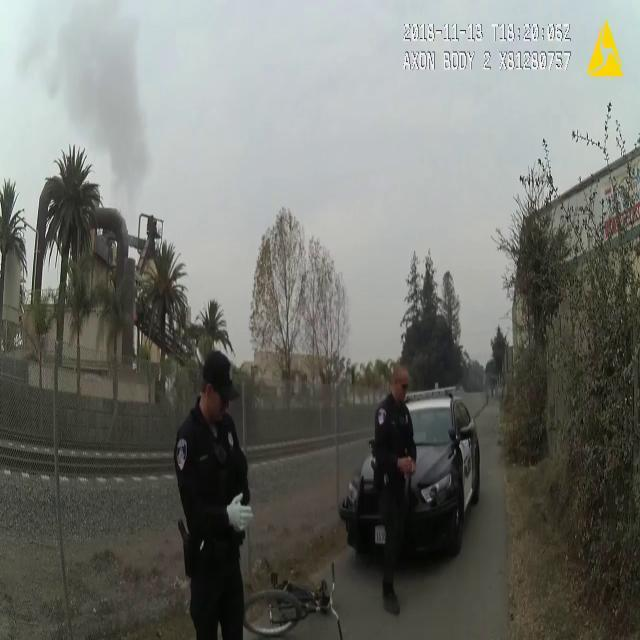gun: (170, 507, 199, 587), (369, 455, 385, 501)
